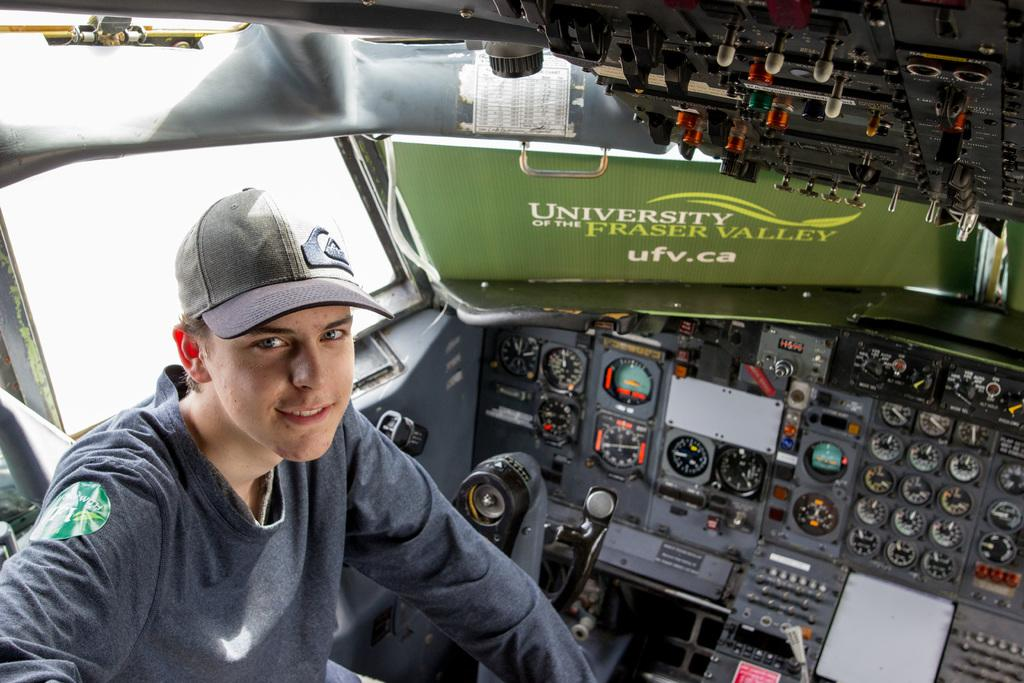Hat: (173, 186, 393, 340)
